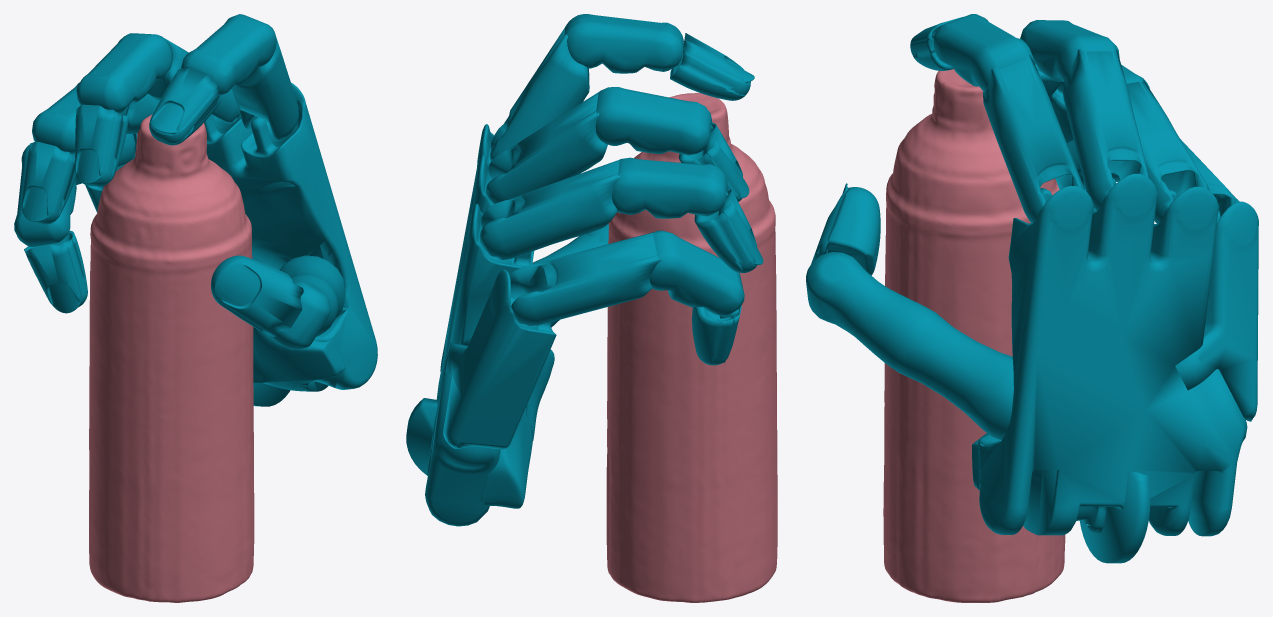
The picture shows the model from 3 angles, left to right: view 1: azimuth 30°, elevation 25°; view 2: azimuth 150°, elevation 25°; view 3: azimuth 270°, elevation 25°; orthographic projection. The views are drawn at different scales.
Parts seen in each view (by area): view 1: world; view 2: world; view 3: world.
Part boxes in pixels (x1,y1,x2,y2): world: (14, 14, 377, 602); world: (406, 14, 777, 602); world: (806, 14, 1258, 602).
Bounding box in the file's own units: 0.13 × 0.1974 × 0.1404.
